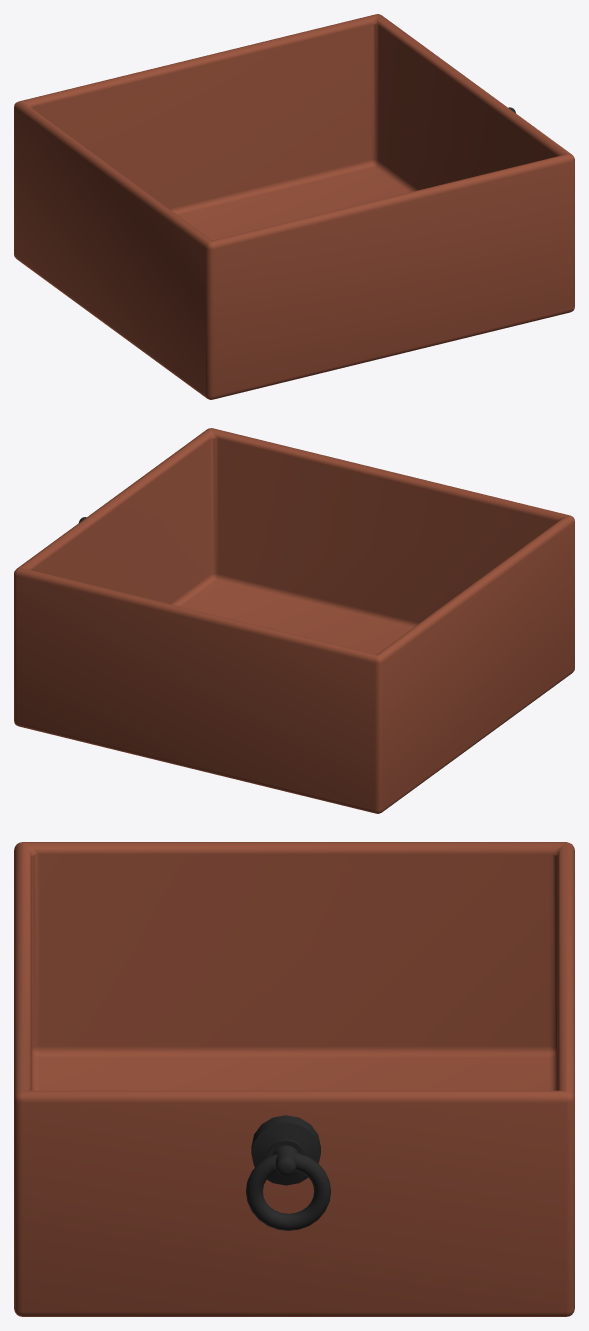
Rendered from Item_002.fbx.
3 renders of one model, top to bottom at view 1: azimuth 30°, elevation 25°; view 2: azimuth 150°, elevation 25°; view 3: azimuth 270°, elevation 25°, orthographic. The views are drawn at different scales.
Parts seen in each view (by area): view 1: Cube.070; view 2: Cube.070; view 3: Cube.070.
Part boxes in pixels (left/top/right/bottom): Cube.070: left=14, top=14, right=574, bottom=399; Cube.070: left=14, top=428, right=574, bottom=813; Cube.070: left=14, top=842, right=574, bottom=1316.
Size of the model in its own units: 316 by 119 by 269.
